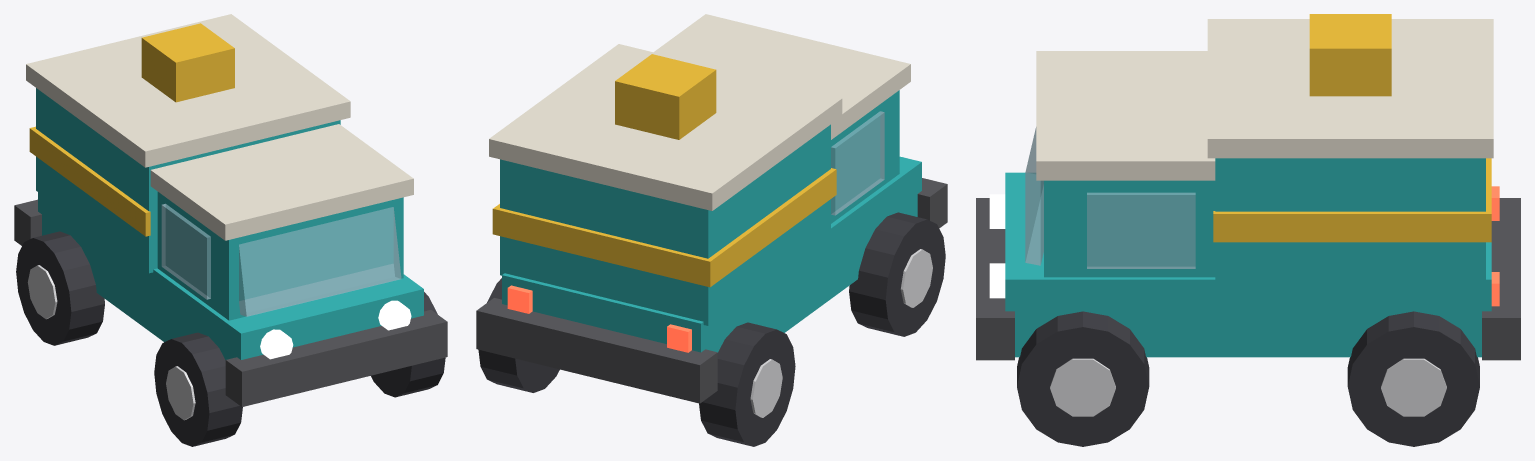
Rendered from delivery-cart-grouped.glb.
3 renders of one model, left to right at view 1: azimuth 30°, elevation 25°; view 2: azimuth 150°, elevation 25°; view 3: azimuth 270°, elevation 25°, orthographic. The views are drawn at different scales.
Visible parts, largest first — view 1: CartBody, WheelRearLeft, WheelFrontLeft, WheelFrontRight; view 2: CartBody, WheelFrontLeft, WheelRearLeft, WheelRearRight; view 3: CartBody, WheelFrontRight, WheelRearRight.
Part boxes in pixels (bbox=[...]): CartBody: bbox=[14, 14, 447, 406]; WheelRearLeft: bbox=[16, 231, 104, 345]; WheelFrontLeft: bbox=[154, 332, 242, 446]; WheelFrontRight: bbox=[371, 292, 445, 397]; CartBody: bbox=[476, 14, 947, 403]; WheelFrontLeft: bbox=[849, 212, 945, 336]; WheelRearLeft: bbox=[699, 322, 795, 446]; WheelRearRight: bbox=[478, 278, 559, 392]; CartBody: bbox=[976, 14, 1520, 360]; WheelFrontRight: bbox=[1017, 311, 1149, 446]; WheelRearRight: bbox=[1347, 311, 1479, 446].
Bounding box in the file's own units: 1.22 × 1.4 × 2.
